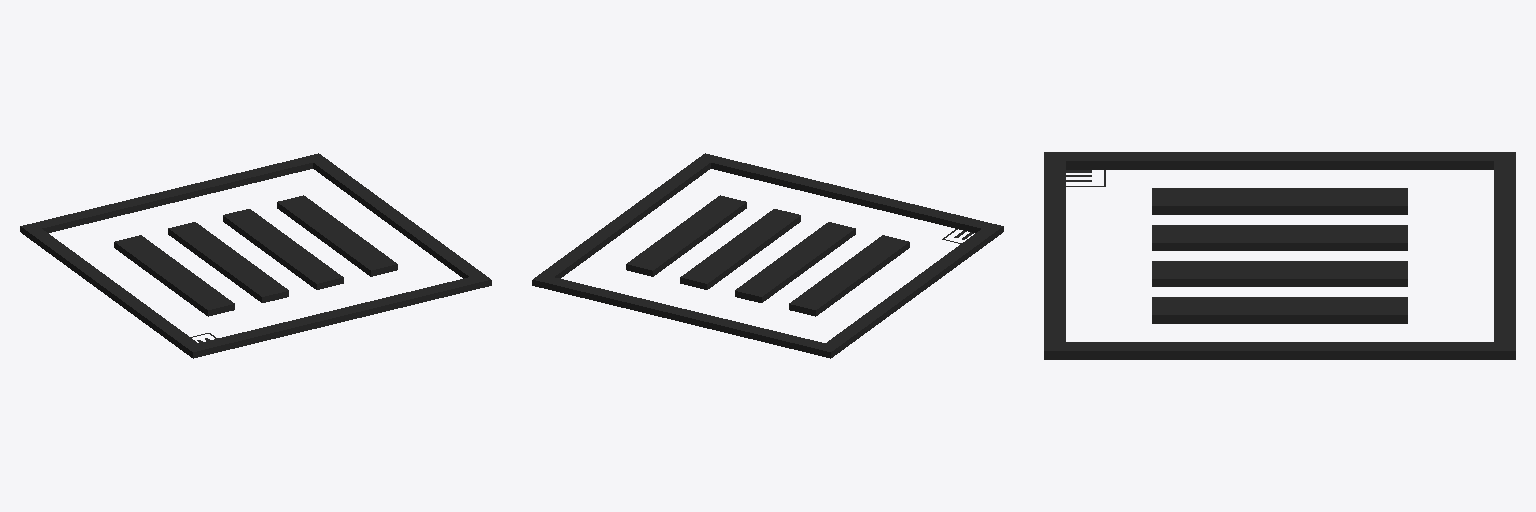
URDF robot description (Room46):
<robot name="Room46">
    <link name="_name">
        <visual> 
            <origin rpy="0.0 0.0 0.0" xyz="-0.5010440890668775 -0.4989548072448913 -0.009999999999999998" />
                <geometry>
                    <mesh filename="Room46/Room46.obj" scale="1 1 0.1" />
                </geometry>

            <material name="black">
                <color rgba="0.2 0.2 0.2 0.95" />
            </material>
        </visual>

       <collision concave="yes" name="collision_0">
            <origin rpy="0.0 0.0 0.0" xyz="-0.5010440890668775 -0.4989548072448913 -0.009999999999999998" />
            <geometry>
                <mesh filename="Room46/Room46_vhacd.obj" scale="1 1 0.1" />
            </geometry>
        </collision>

        <inertial> 
            <mass value="0" />
            <inertia ixx="0" ixy="0" ixz="0" iyy="0" iyz="0" izz="0" />
        </inertial> 
    </link>
</robot>

--- Facts derived from the render (not from the file) ---
Views: 3 orthographic renders of the robot side by side, from view 1: azimuth 30°, elevation 25°; view 2: azimuth 150°, elevation 25°; view 3: azimuth 270°, elevation 25°.
Model Room46 with 1 links and 0 joints (none), rooted at _name, posed all joints at 0.
Visible links, largest first — view 1: _name; view 2: _name; view 3: _name.
Link boxes in pixels (left/top/right/bottom): _name: left=20, top=153, right=491, bottom=358; _name: left=532, top=153, right=1003, bottom=358; _name: left=1044, top=152, right=1515, bottom=359.
Bounding box of the posed robot: 1 × 1 × 0.02 m (x, y, z).
1 mesh visuals loaded from 1 distinct referenced files (1 OBJ).